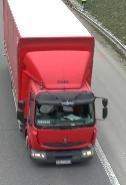Truck: (3, 0, 108, 166)
